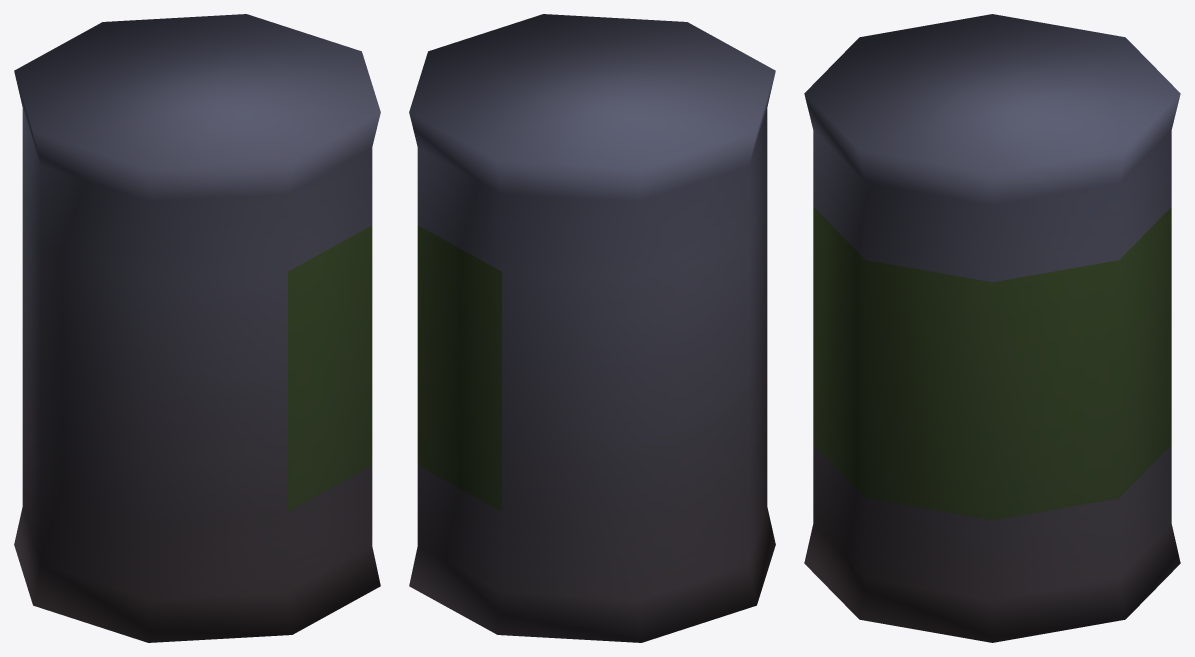
Rendered from mt-cannedfood02.fbx.
3 renders of one model, left to right at view 1: azimuth 30°, elevation 25°; view 2: azimuth 150°, elevation 25°; view 3: azimuth 270°, elevation 25°, orthographic.
Parts seen in each view (by area): view 1: cannedfood02; view 2: cannedfood02; view 3: cannedfood02.
Boxes of the visible parts, <box> form: cannedfood02: <box>14,14,380,642</box>; cannedfood02: <box>409,14,775,642</box>; cannedfood02: <box>804,14,1180,642</box>.
Bounding box in the file's own units: 42.28 × 58.23 × 42.28.
Materials: 1 (1 with a texture image).
